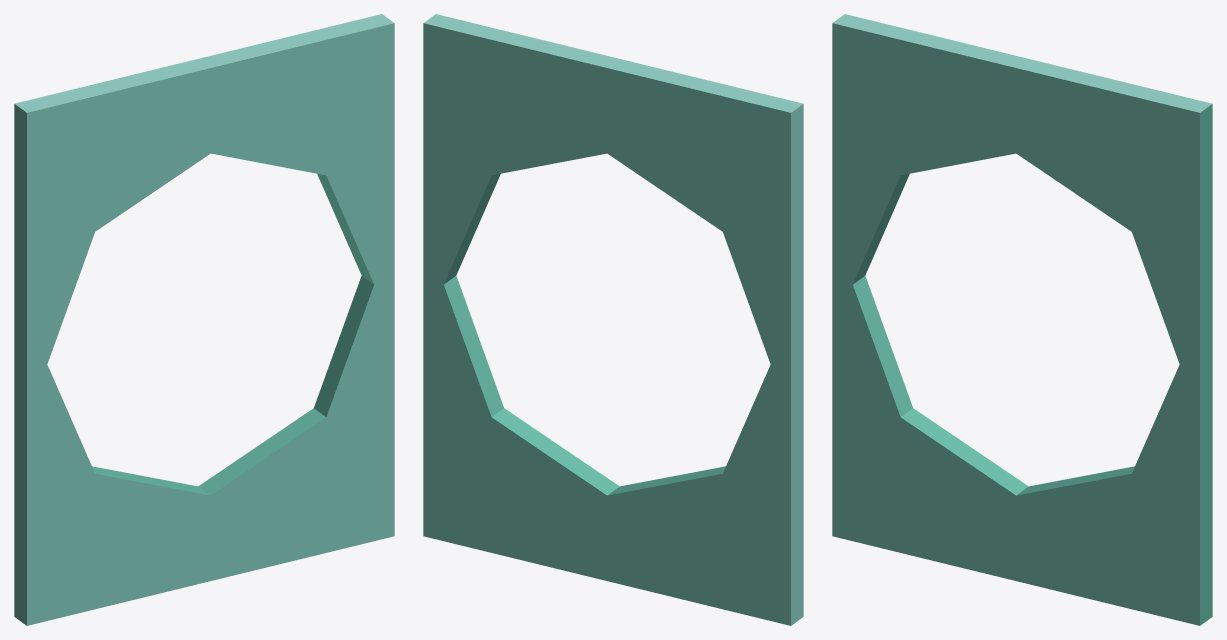
Rendered from squidgame_props_platform_decoration4_blue.fbx.
The picture shows the model from 3 angles, left to right: view 1: azimuth 30°, elevation 25°; view 2: azimuth 150°, elevation 25°; view 3: azimuth 330°, elevation 25°; orthographic projection.
Visible parts, largest first — view 1: squidgame_props_platform_decoration4_blue; view 2: squidgame_props_platform_decoration4_blue; view 3: squidgame_props_platform_decoration4_blue.
Boxes of the visible parts, bbox=[...] form: squidgame_props_platform_decoration4_blue: bbox=[14, 14, 394, 625]; squidgame_props_platform_decoration4_blue: bbox=[423, 14, 803, 625]; squidgame_props_platform_decoration4_blue: bbox=[832, 14, 1212, 625].
Bounding box in the file's own units: 4.5 × 6 × 0.2663.
